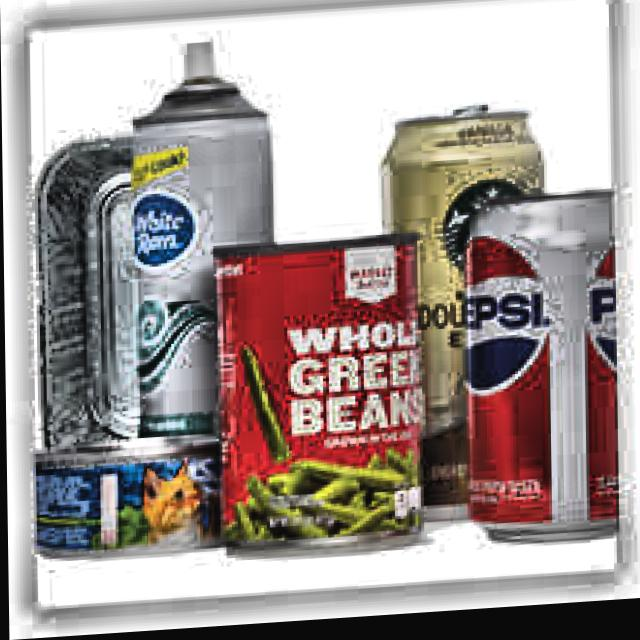can: (376, 102, 557, 538), (208, 229, 432, 573), (126, 36, 280, 453), (456, 193, 627, 561), (28, 125, 169, 456), (22, 434, 227, 570)
